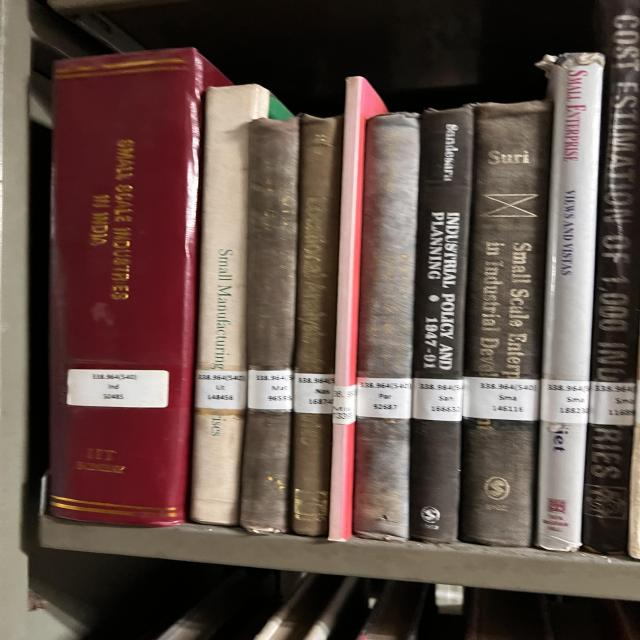Book: (48, 48, 228, 526), (460, 100, 552, 546), (190, 85, 270, 525), (537, 52, 605, 551), (582, 0, 640, 555), (353, 112, 420, 540), (410, 105, 473, 542), (328, 76, 387, 541), (240, 118, 300, 532), (292, 115, 343, 536)
Label: (67, 369, 170, 408), (463, 376, 540, 421), (357, 378, 412, 419), (412, 379, 463, 421), (195, 370, 247, 410), (247, 370, 293, 411), (293, 372, 335, 414), (332, 385, 357, 425)
